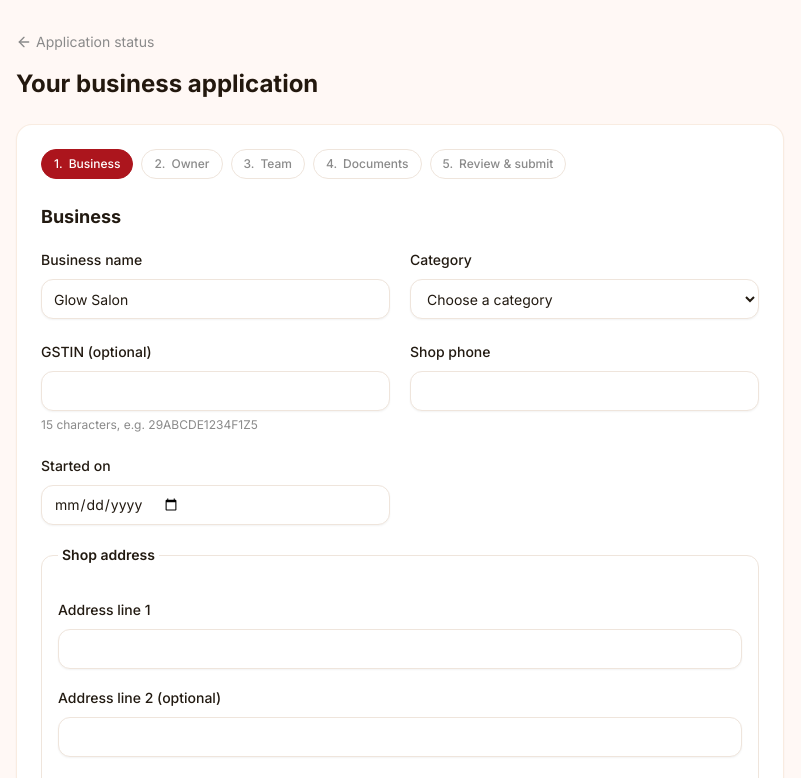
Test: Onboarding wizard › a new application starts at Business; invalid input shows every problem and saves nothing
This screenshot has width=801, height=778.
Clear the field labelled "Business name" at (216, 299), box x1=41 y1=279 x2=390 y2=319
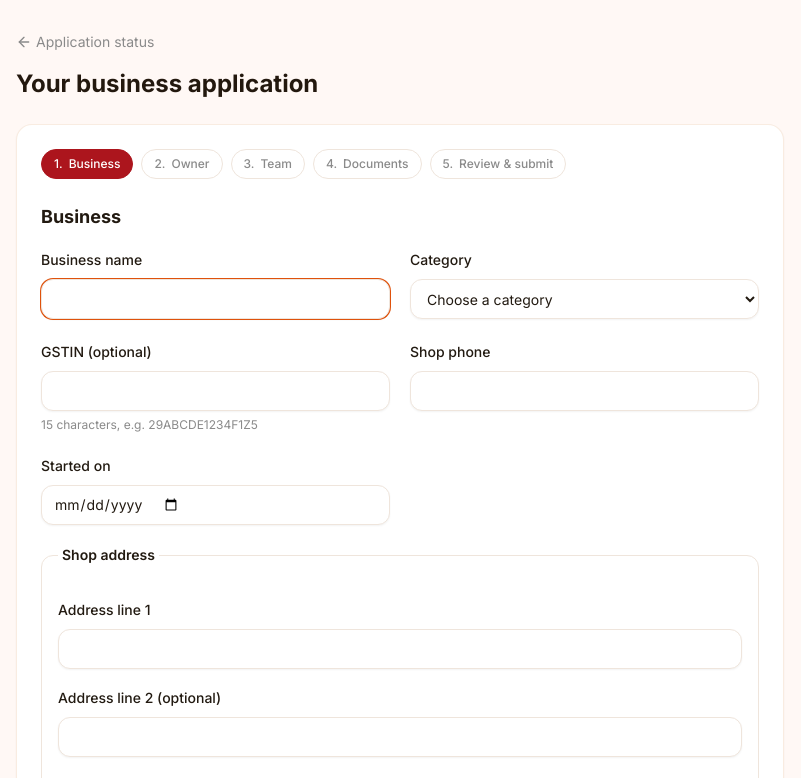
Type "NOT-A-GSTIN" into the field labelled "GSTIN (optional)".
click(216, 391); type("NOT-A-GSTIN")  # box x1=41 y1=371 x2=390 y2=411
(page scrolled)
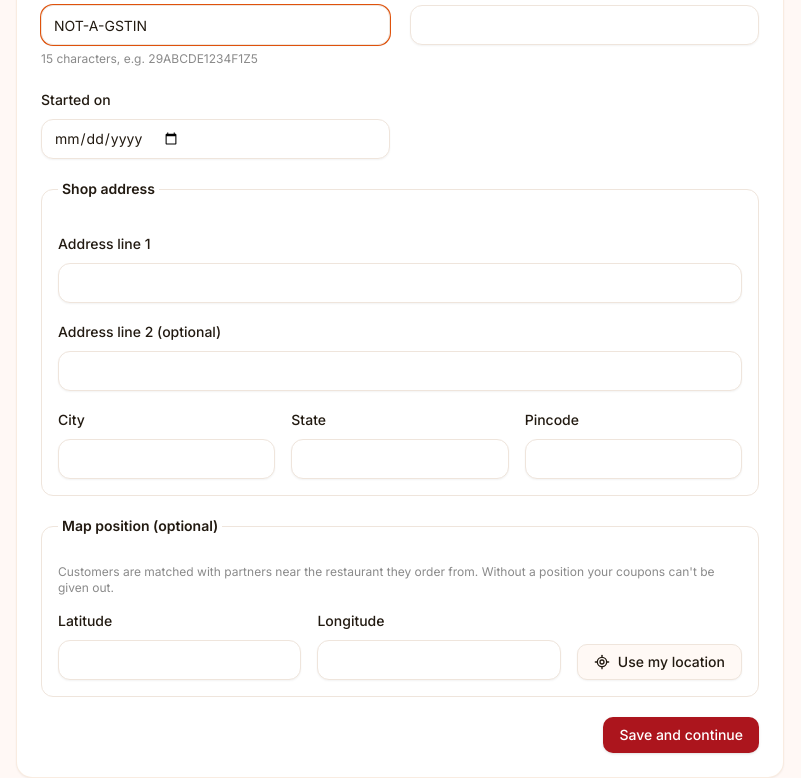
Click the button "Save and continue".
click(681, 735)  # box x1=603 y1=717 x2=759 y2=753
(page scrolled)
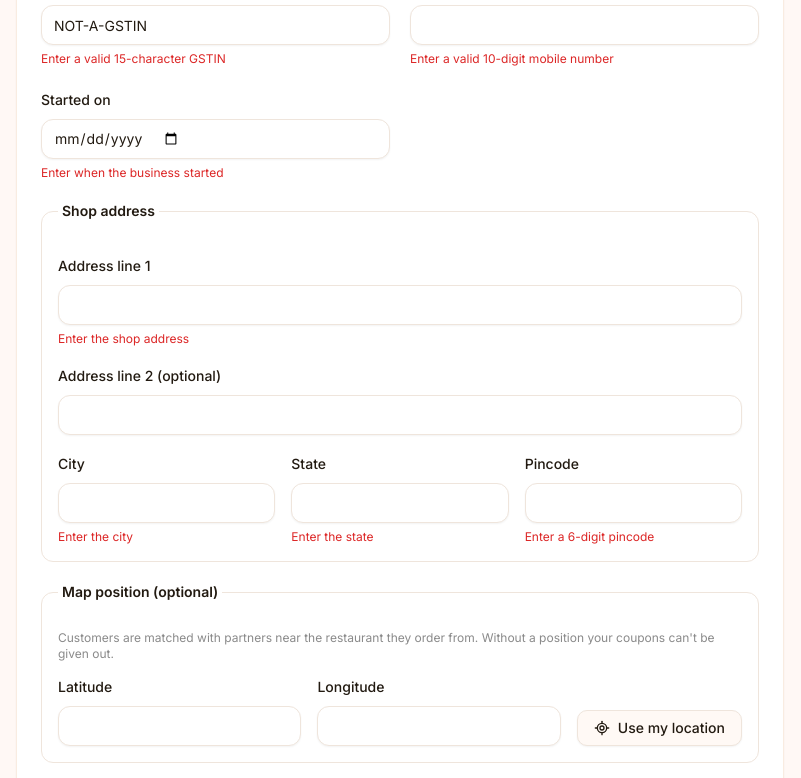
Check: the text "Enter a valid 15-character GSTIN" is shown, box x1=41 y1=51 x2=226 y2=66
Check: the text "Enter the shop address" is shown, box x1=58 y1=331 x2=189 y2=346
Check: the text "Enter a 6-digit pincode" is shown, box x1=525 y1=529 x2=654 y2=544
